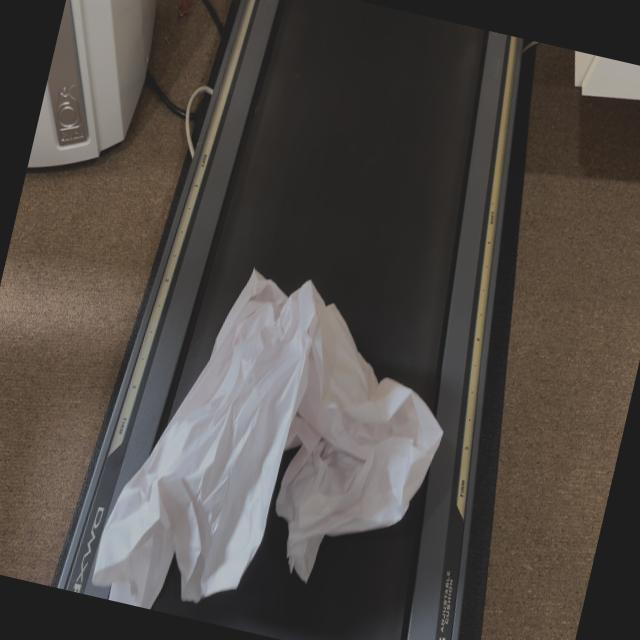Trash: (111, 243, 463, 640)
